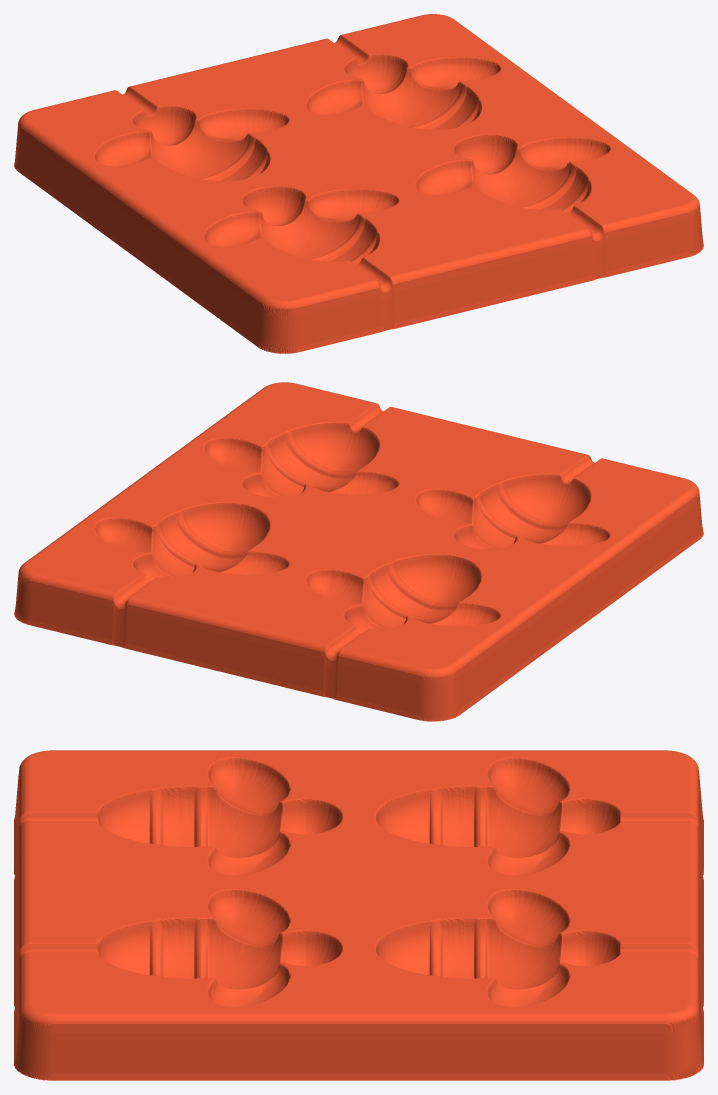
The model's file is mold.glb.
The picture shows the model from 3 angles, top to bottom: view 1: azimuth 30°, elevation 25°; view 2: azimuth 150°, elevation 25°; view 3: azimuth 270°, elevation 25°; orthographic projection. The views are drawn at different scales.
Parts seen in each view (by area): view 1: geometry_0; view 2: geometry_0; view 3: geometry_0.
Part boxes in pixels (box(x1,y1,x2,y2)): geometry_0: box(14, 14, 703, 353); geometry_0: box(14, 382, 703, 721); geometry_0: box(14, 750, 703, 1080).
Size of the model in its own units: 0.1497 by 0.0155 by 0.1588.
